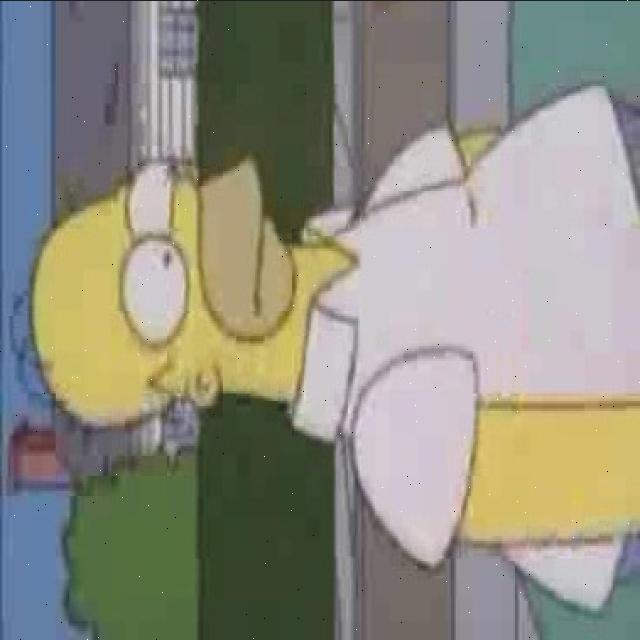Homer Simpson: (8, 151, 316, 429)
